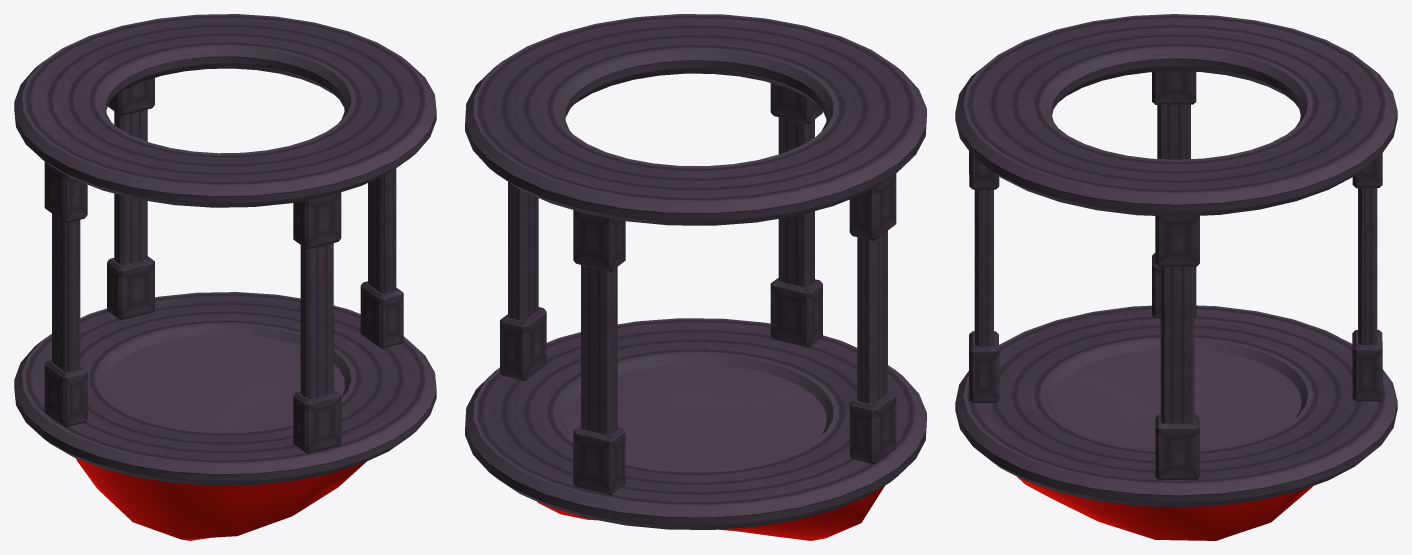
The model's file is PRM Skybox Building.fbx.
The picture shows the model from 3 angles, left to right: view 1: azimuth 30°, elevation 25°; view 2: azimuth 150°, elevation 25°; view 3: azimuth 270°, elevation 25°; orthographic projection. The views are drawn at different scales.
Visible parts, largest first — view 1: Skybox Building; view 2: Skybox Building; view 3: Skybox Building.
Part boxes in pixels (x1,y1,x2,y2): Skybox Building: (14, 14, 436, 540); Skybox Building: (465, 14, 926, 540); Skybox Building: (955, 14, 1397, 540).
Bounding box in the file's own units: 830 × 849 × 830.
